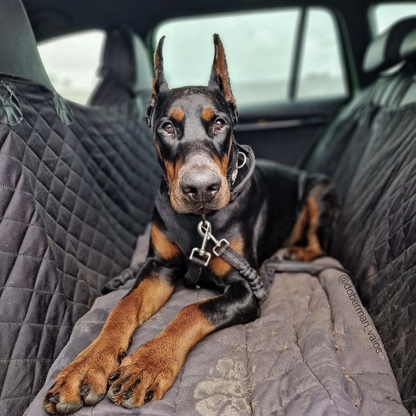doberman: (49, 36, 344, 416)
